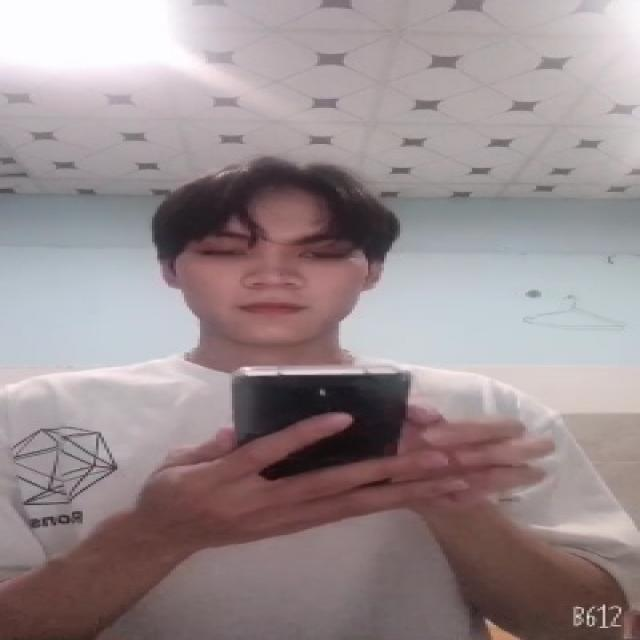Phone: (231, 362, 414, 482)
